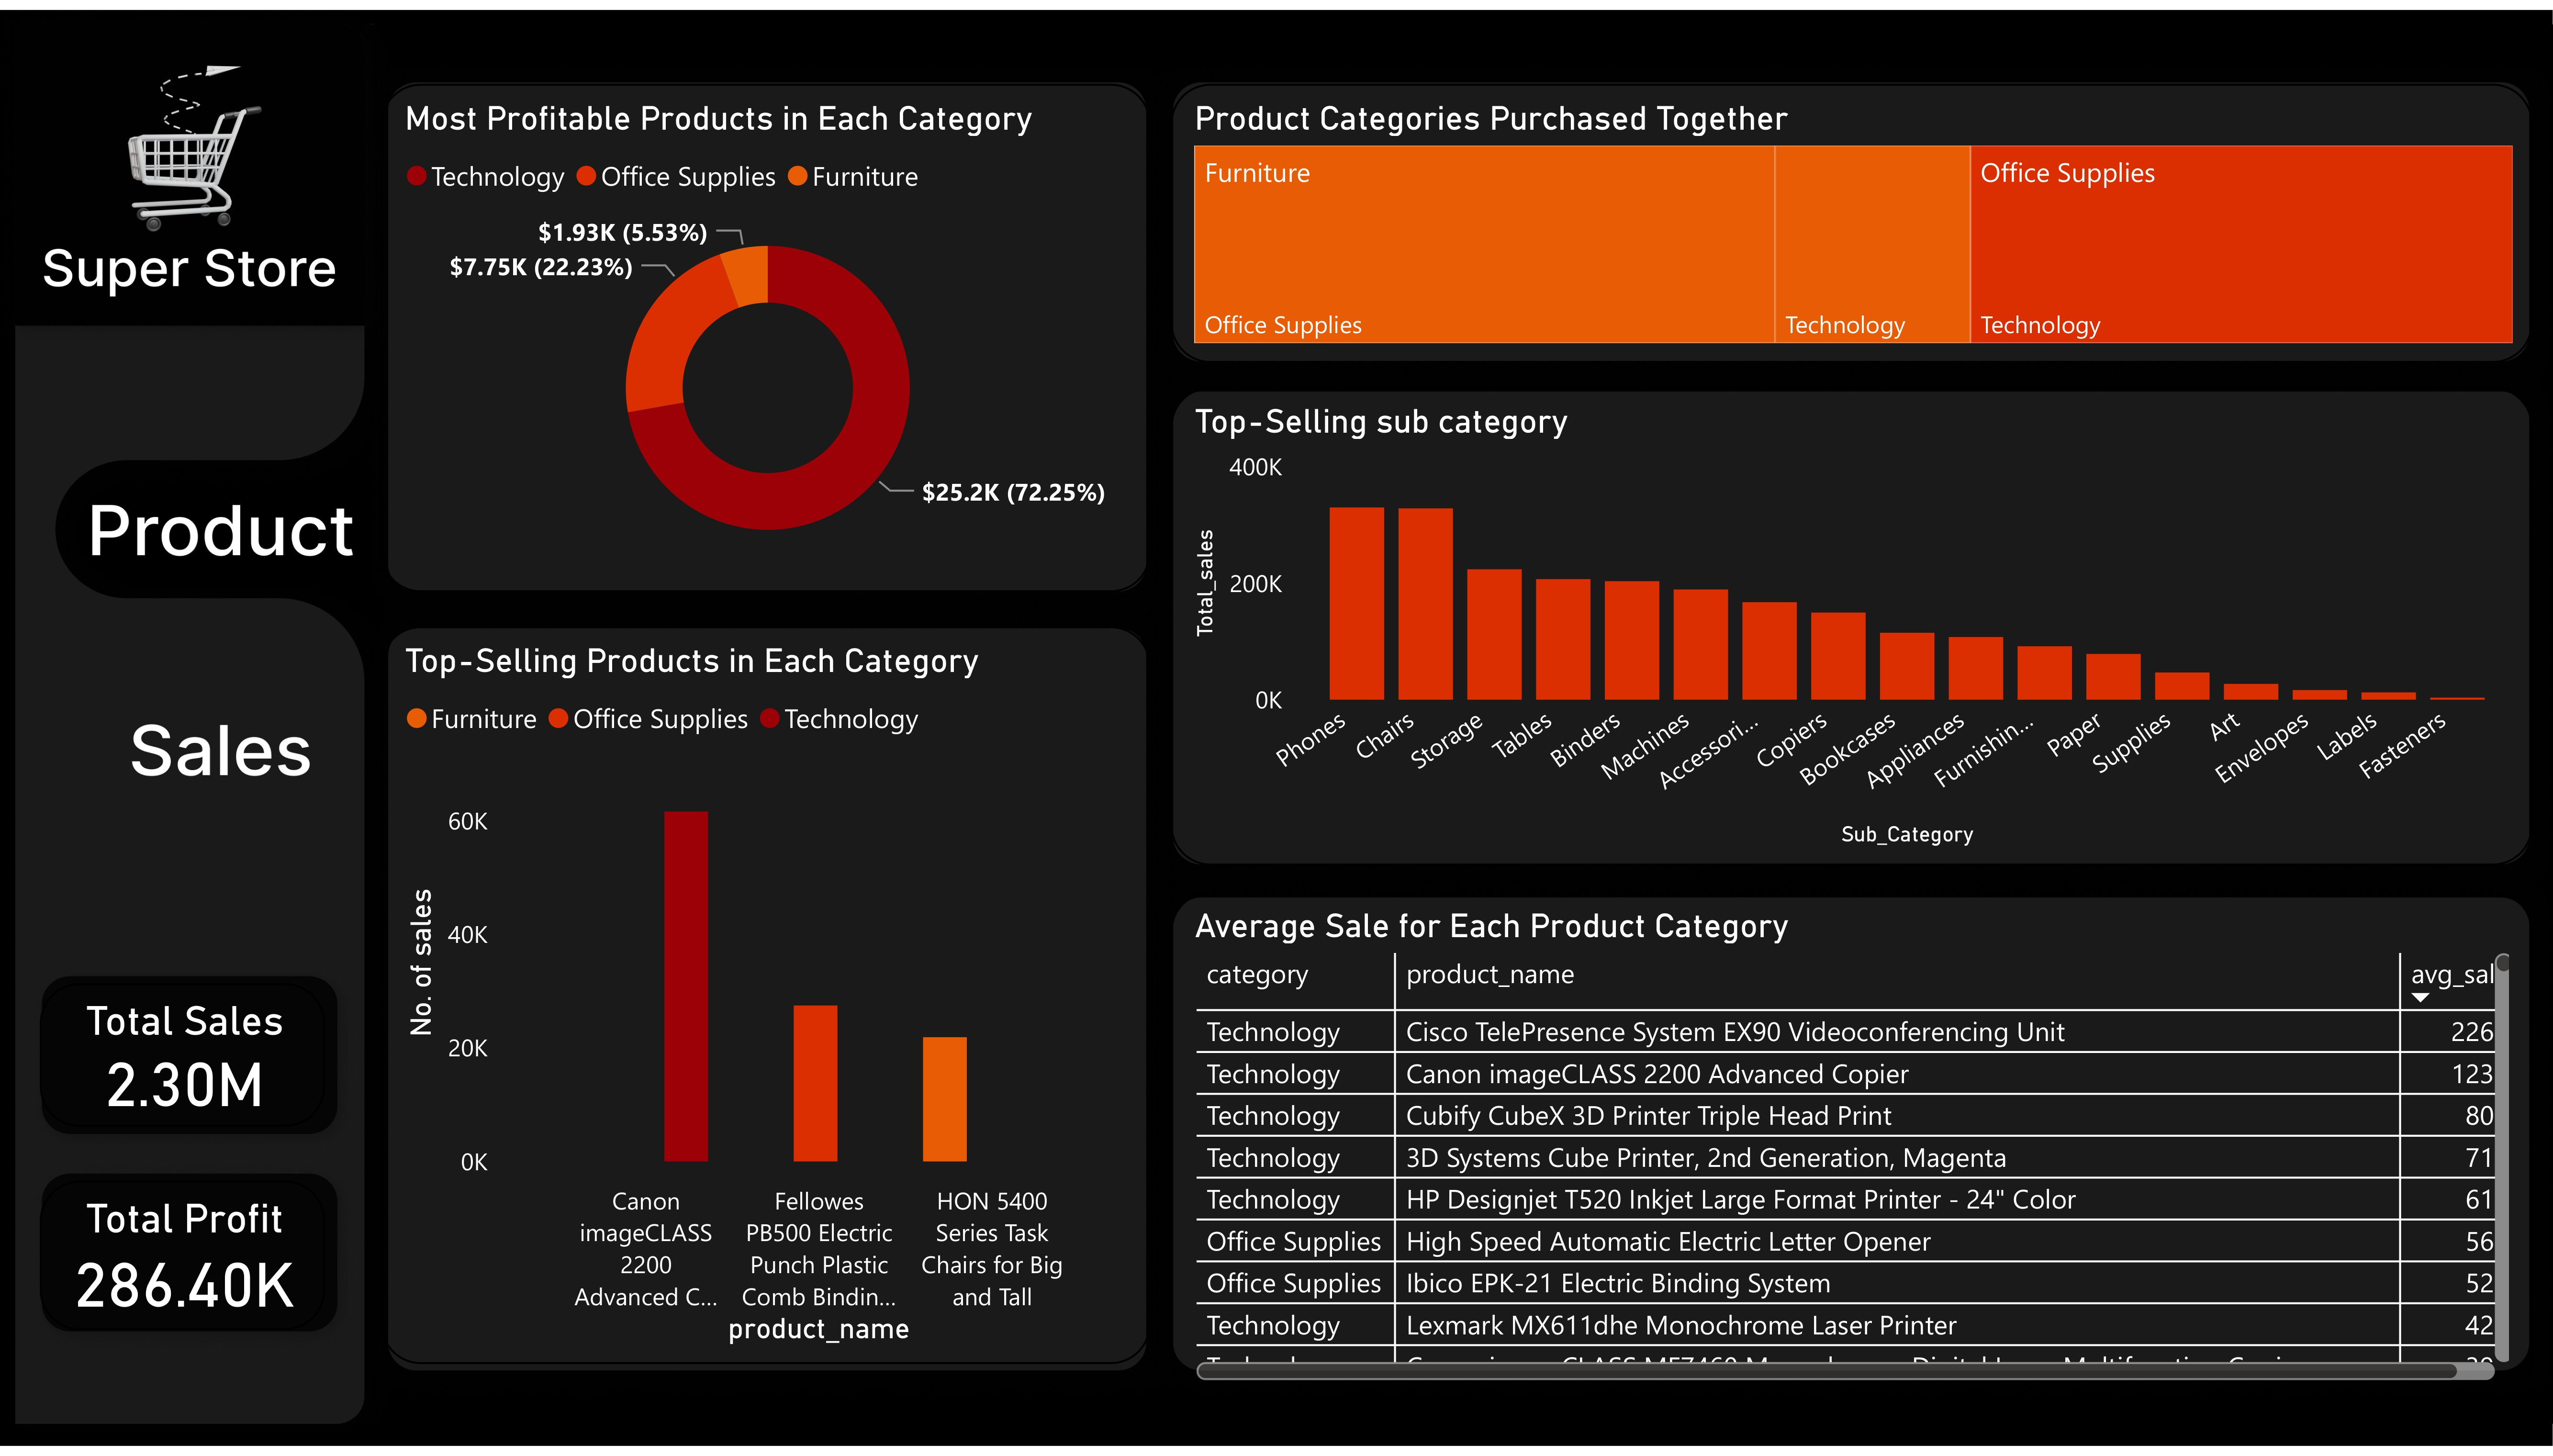

Layout of this report page (visuals, bound fields, positions):
{"tool":"powerbi","page":{"name":"Product dashboard","canvas":[1280,720],"ordinal":0},"visuals":[{"type":"clusteredColumnChart","title":"Top-Selling Products in Each Category","fields":{"Y":["Sum(Q_1.top_sales)"],"Category":["Q_1.product_name"],"Series":["Q_1.category"]},"box":[191.3,309,385.5,369.9],"z":0},{"type":"donutChart","title":"Most Profitable Products in Each Category","fields":{"Category":["Q_2.category"],"Y":["Sum(Q_2.total_profit)"],"Series":["Q_2.product_name"]},"box":[191.3,36.9,385.5,255.1],"z":1000},{"type":"tableEx","title":"Average Sale for Each Product Category","fields":{"Values":["Q_3.category","Q_3.product_name","Sum(Q_3.avg_sales)"]},"box":[586.8,442.2,683.1,255.1],"z":2000},{"type":"clusteredColumnChart","title":"Top-Selling sub category","fields":{"Category":["Q_4.sub_category"],"Y":["Sum(Q_4.total_sales)"]},"box":[586.8,188.5,683.1,239.5],"z":3000},{"type":"treemap","title":"Product Categories Purchased Together","fields":{"Group":["Q_9.category1"],"Values":["Sum(Q_9.purchase_count)"],"Details":["Q_9.category2"]},"box":[586.8,36.9,683.1,140.3],"z":4000},{"type":"card","title":"Total Profit","fields":{"Values":["Sum(superstores.profit)"]},"box":[19.8,586.8,143.1,75.1],"z":6000},{"type":"card","title":"Total Sales","fields":{"Values":["Sum(superstores.sales)"]},"box":[19.8,487.6,143.1,72.3],"z":7000},{"type":"shape","box":[58.1,348.7,112,43.9],"z":7001}]}

Visuals, with their boxes in screenshot pixels (x1, y1, x2, y2), scaled from the page's 1280x720 canvas onto the 2553x1456 screenshot:
"Top-Selling Products in Each Category" clusteredColumnChart: [381,625,1151,1373]
"Most Profitable Products in Each Category" donutChart: [381,75,1151,591]
"Average Sale for Each Product Category" tableEx: [1170,894,2533,1410]
"Top-Selling sub category" clusteredColumnChart: [1170,381,2533,865]
"Product Categories Purchased Together" treemap: [1170,75,2533,358]
"Total Profit" card: [40,1187,325,1339]
"Total Sales" card: [40,986,325,1132]
shape: [116,705,339,794]
